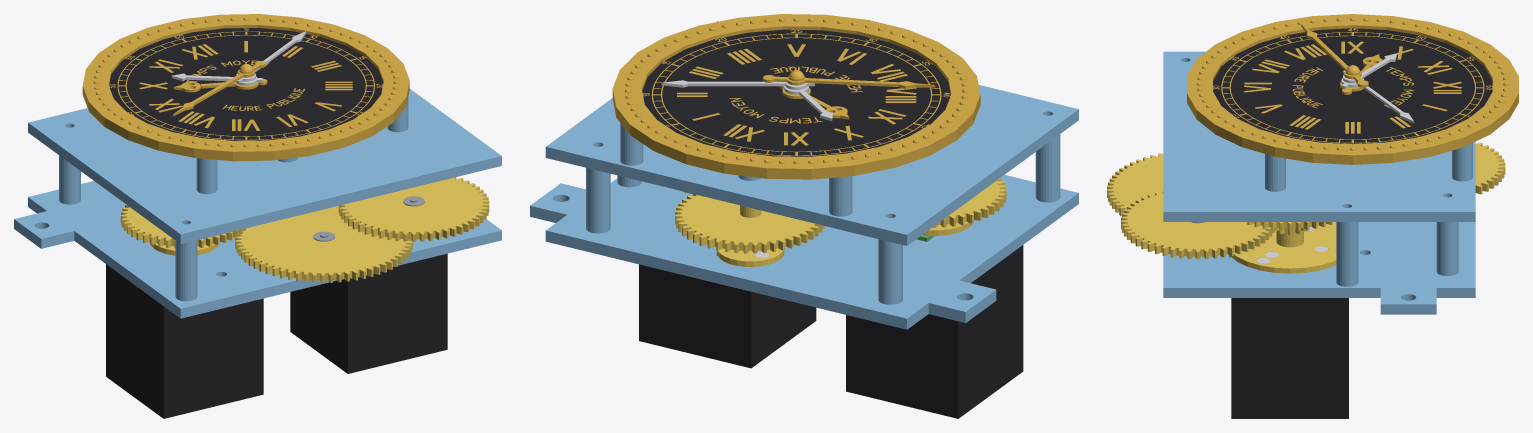
Rendered from m1_time.dae.
The picture shows the model from 3 angles, left to right: view 1: azimuth 30°, elevation 25°; view 2: azimuth 150°, elevation 25°; view 3: azimuth 270°, elevation 25°; orthographic projection. The views are drawn at different scales.
Parts seen in each view (by area): view 1: front_plate, dial_field, motor_M1, back_plate, bezel, motor_M1b, noon_wheel_64_N, noon_wheel_54_12_X, dial_gilt, M1_drive_45, pillar_2, pillar_0 (+2 smaller); view 2: back_plate, front_plate, dial_field, bezel, motor_M1, motor_M1b, gilt_minute_wheel_48, dial_gilt, pillar_1, pillar_0, pillar_2, M1_drive_45 (+3 smaller); view 3: front_plate, dial_field, bezel, back_plate, motor_M1b, noon_wheel_54_12_X, dial_gilt, M1b_flag_disc, noon_wheel_64_N, pillar_3, pillar_1, gilt_minute_wheel_48 (+3 smaller).
Part boxes in pixels (x1,y1,x2,y2): front_plate: [28, 89, 501, 243]; dial_field: [109, 28, 383, 140]; motor_M1: [106, 264, 263, 418]; back_plate: [14, 181, 501, 318]; bezel: [82, 14, 409, 161]; motor_M1b: [290, 253, 447, 373]; noon_wheel_64_N: [235, 206, 413, 282]; noon_wheel_54_12_X: [338, 177, 489, 241]; dial_gilt: [109, 28, 382, 140]; M1_drive_45: [120, 204, 245, 248]; pillar_2: [175, 240, 197, 301]; pillar_0: [59, 155, 80, 204]; back_plate: [530, 175, 1078, 329]; front_plate: [545, 21, 1078, 245]; dial_field: [642, 29, 950, 156]; bezel: [612, 14, 980, 179]; motor_M1: [846, 245, 1023, 418]; motor_M1b: [639, 264, 816, 368]; gilt_minute_wheel_48: [675, 194, 824, 253]; dial_gilt: [642, 29, 950, 155]; pillar_1: [586, 168, 610, 233]; pillar_0: [878, 239, 902, 304]; pillar_2: [1035, 134, 1060, 202]; M1_drive_45: [933, 177, 1006, 227]; front_plate: [1163, 51, 1475, 221]; dial_field: [1213, 28, 1492, 143]; bezel: [1187, 14, 1518, 164]; back_plate: [1163, 222, 1475, 314]; motor_M1b: [1231, 298, 1348, 418]; noon_wheel_54_12_X: [1121, 190, 1274, 259]; dial_gilt: [1213, 28, 1492, 143]; M1b_flag_disc: [1230, 222, 1336, 273]; noon_wheel_64_N: [1107, 153, 1163, 215]; pillar_3: [1336, 222, 1358, 286]; pillar_1: [1436, 222, 1458, 276]; gilt_minute_wheel_48: [1475, 142, 1505, 194].
Bounding box in the file's own units: 164 × 148 × 112.
